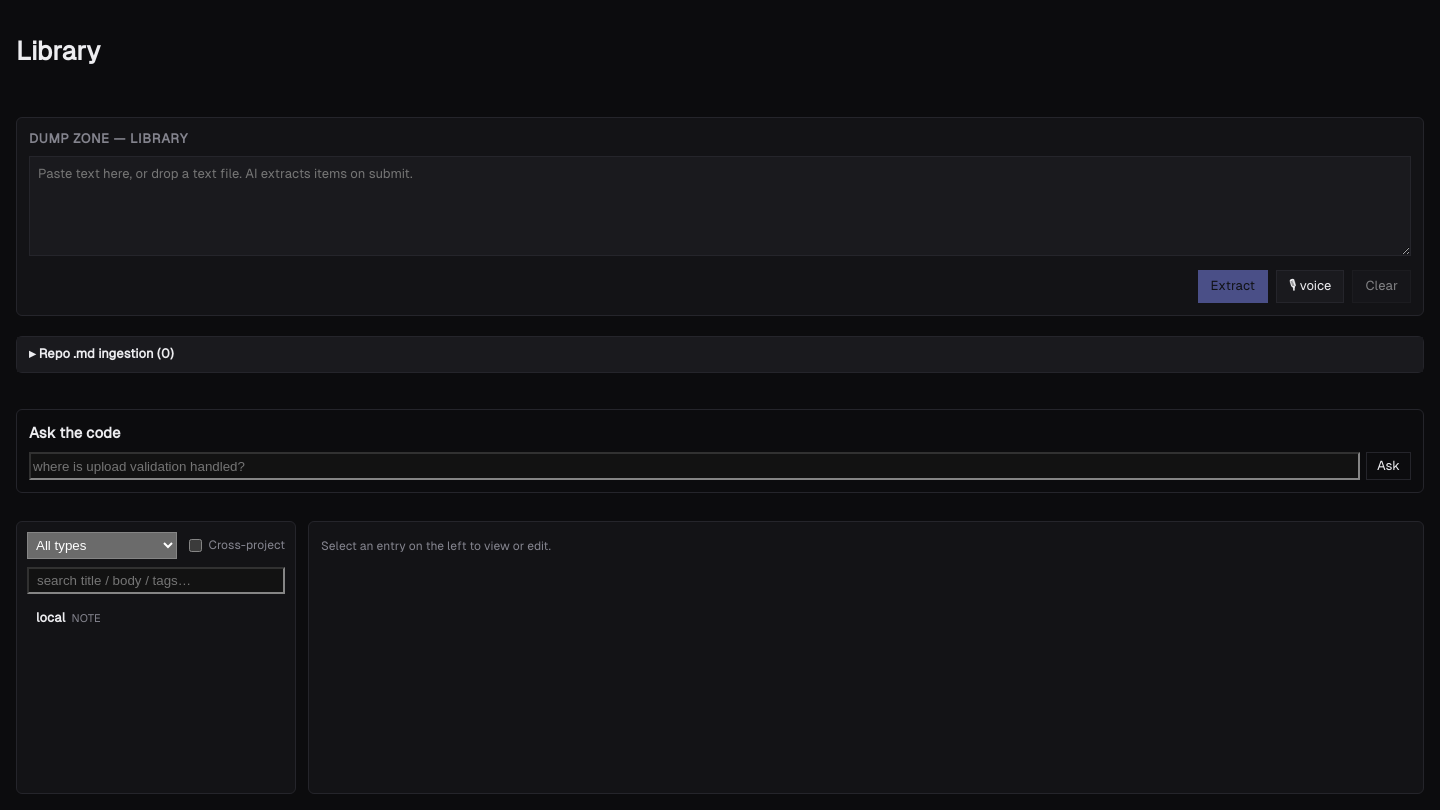
it: LibraryView › cross-project toggle issues a global-scope search
Expected: the text "local" is shown, [36,610,66,626]
What coordinates should you click on to do the following:
click the checkbox with test id "library-scope-toggle"
I would click on:
 (195, 546)
Its box is [189,540,202,552].
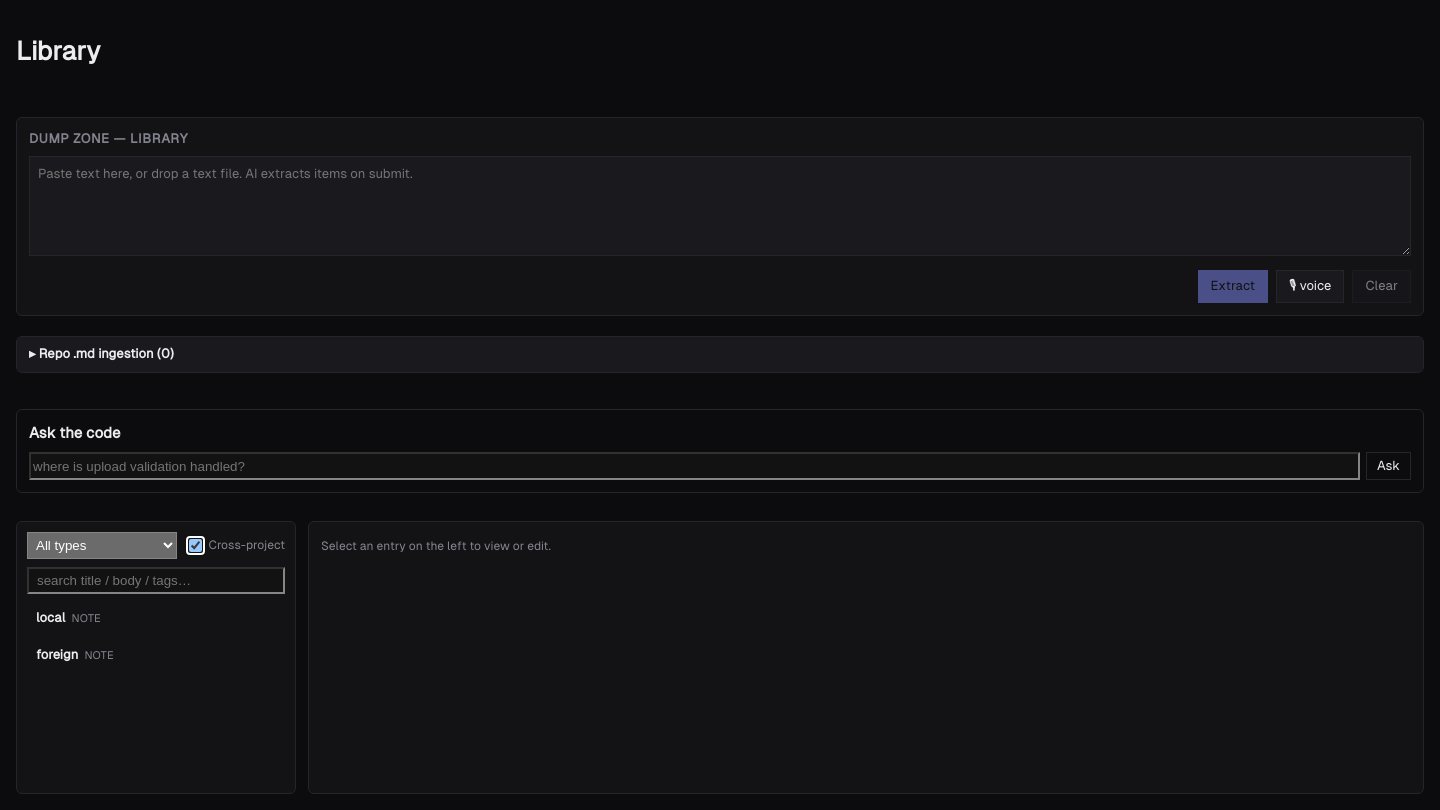
Expected: the text "foreign" is shown, [36,647,78,662]
